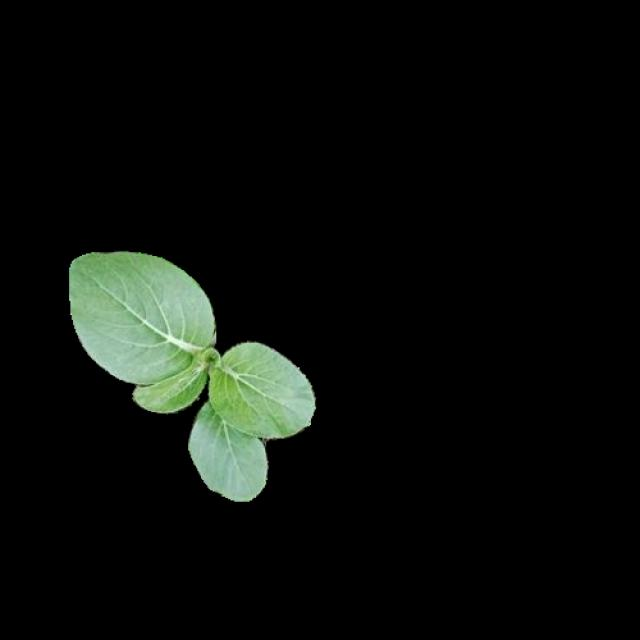healthy: (70, 252, 316, 501)
not-mature: (69, 253, 315, 502)
